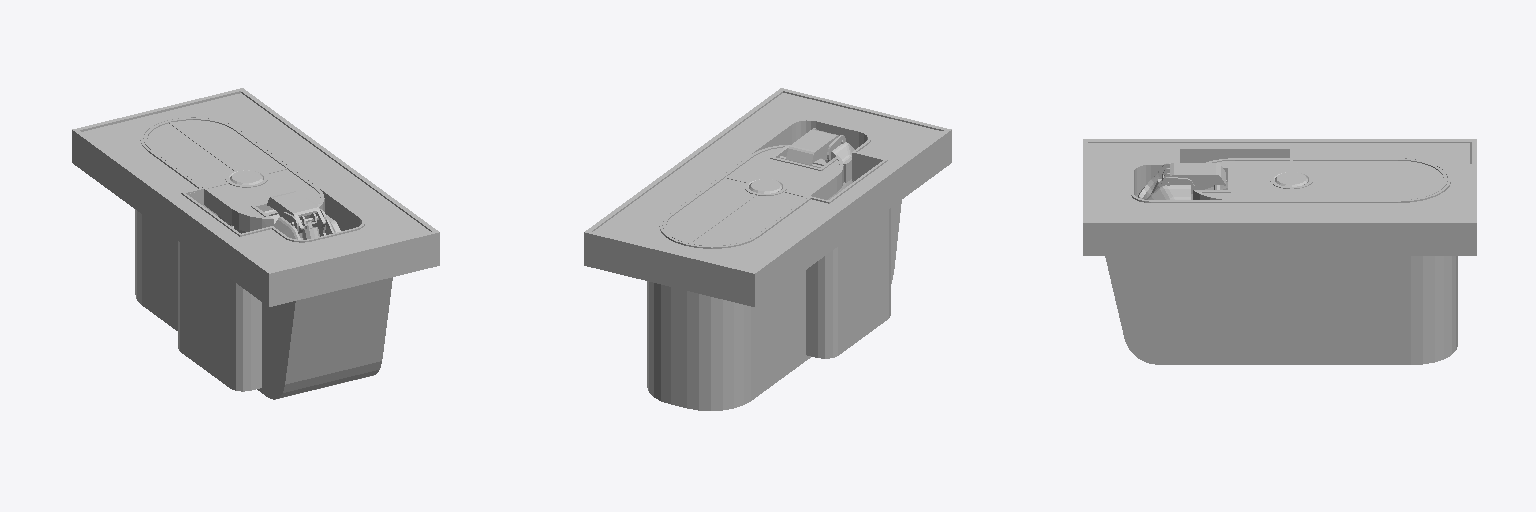
File: Faith_plate.obj
3 renders of one model, left to right at view 1: azimuth 30°, elevation 25°; view 2: azimuth 150°, elevation 25°; view 3: azimuth 270°, elevation 25°, orthographic.
Visible parts, largest first — view 1: g0; view 2: g0; view 3: g0.
Part boxes in pixels (x1,y1,x2,y2): g0: (72, 88, 439, 399); g0: (584, 88, 951, 410); g0: (1083, 139, 1476, 364).
Bounding box in the file's own units: 64 × 61.2 × 128.